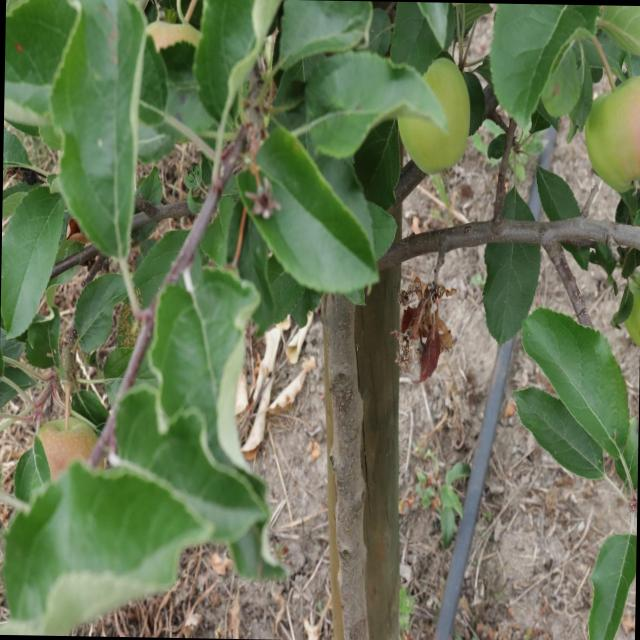-FireBlight-: (397, 288, 452, 381)
